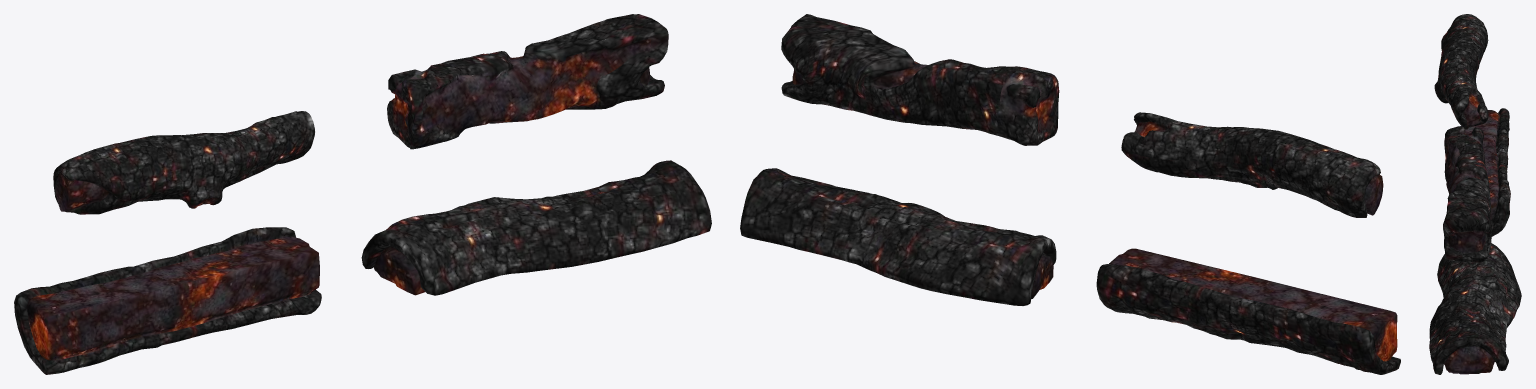
The model's file is firewood-mobile.glb.
The picture shows the model from 3 angles, left to right: view 1: azimuth 30°, elevation 25°; view 2: azimuth 150°, elevation 25°; view 3: azimuth 270°, elevation 25°; orthographic projection. The views are drawn at different scales.
Visible parts, largest first — view 1: Madera3, Madera4, Madera2, Madera1; view 2: Madera4, Madera2, Madera3, Madera1; view 3: Madera4, Madera2, Madera1, Madera3.
Part boxes in pixels (left/top/right/bottom): Madera3: left=14, top=227, right=321, bottom=374; Madera4: left=361, top=160, right=711, bottom=295; Madera2: left=387, top=14, right=668, bottom=149; Madera1: left=53, top=111, right=314, bottom=214; Madera4: left=740, top=168, right=1056, bottom=305; Madera2: left=781, top=14, right=1059, bottom=145; Madera3: left=1096, top=248, right=1400, bottom=374; Madera1: left=1121, top=112, right=1383, bottom=217; Madera4: left=1429, top=243, right=1521, bottom=374; Madera2: left=1443, top=126, right=1493, bottom=262; Madera1: left=1434, top=14, right=1488, bottom=129; Madera3: left=1465, top=108, right=1510, bottom=236.
Bounding box in the file's own units: 0.3027 × 0.0943 × 0.0524.
Materials: 4 (4 with a texture image).
